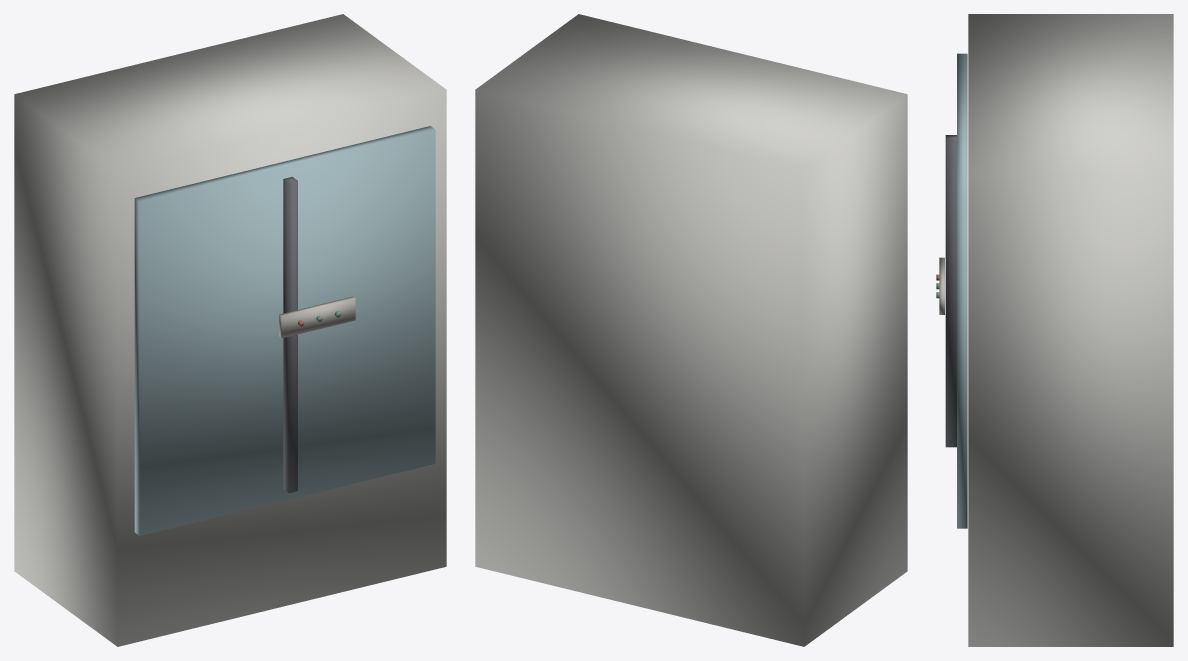
The model's file is freezer_chest__reinforced.glb.
The picture shows the model from 3 angles, left to right: view 1: azimuth 30°, elevation 25°; view 2: azimuth 150°, elevation 25°; view 3: azimuth 270°, elevation 25°; orthographic projection.
Visible parts, largest first — view 1: world; view 2: world; view 3: world.
Part boxes in pixels (x1,y1,x2,y2): world: (14, 14, 446, 646); world: (475, 14, 907, 646); world: (936, 14, 1173, 646).
Size of the model in its own units: 1.29 by 1.78 by 0.8096.
